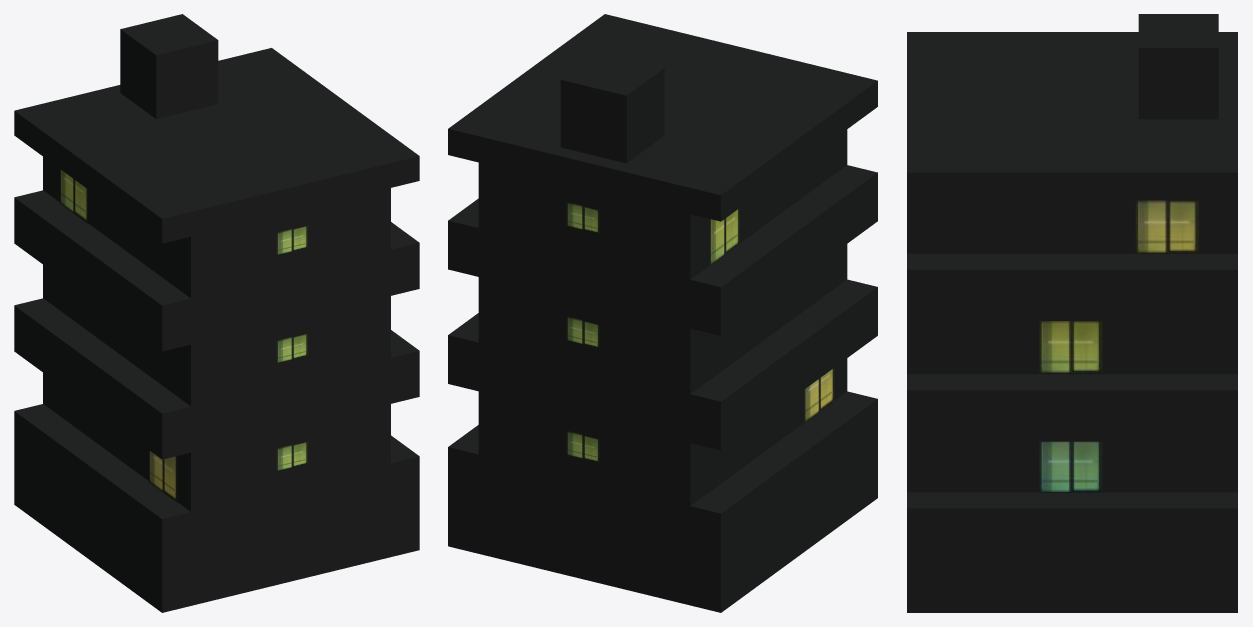
The model's file is AMB_MANSYON_S.glb.
The picture shows the model from 3 angles, left to right: view 1: azimuth 30°, elevation 25°; view 2: azimuth 150°, elevation 25°; view 3: azimuth 270°, elevation 25°; orthographic projection. The views are drawn at different scales.
Visible parts, largest first — view 1: BASE; view 2: BASE; view 3: BASE.
Part boxes in pixels (bbox=[...]): BASE: bbox=[14, 14, 419, 612]; BASE: bbox=[448, 14, 877, 612]; BASE: bbox=[907, 14, 1237, 612].
Bounding box in the file's own units: 41.44 × 70.4 × 41.39.
2 materials, 2 textured.
